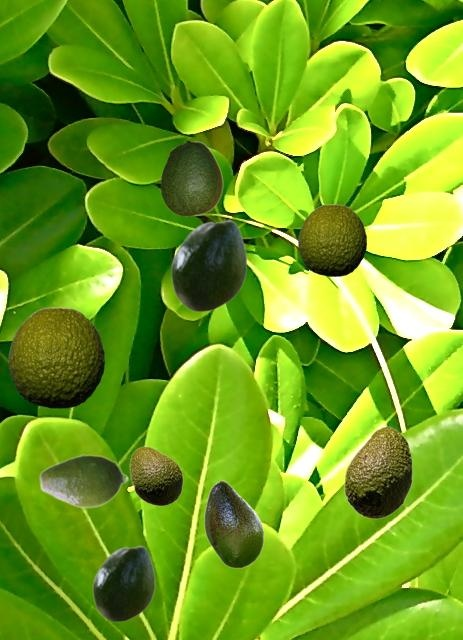avocado: (8, 307, 103, 407), (170, 219, 246, 311), (344, 426, 411, 518), (204, 480, 263, 567), (38, 453, 128, 508), (298, 204, 365, 275), (92, 545, 154, 621), (160, 141, 222, 215), (129, 446, 182, 505)
